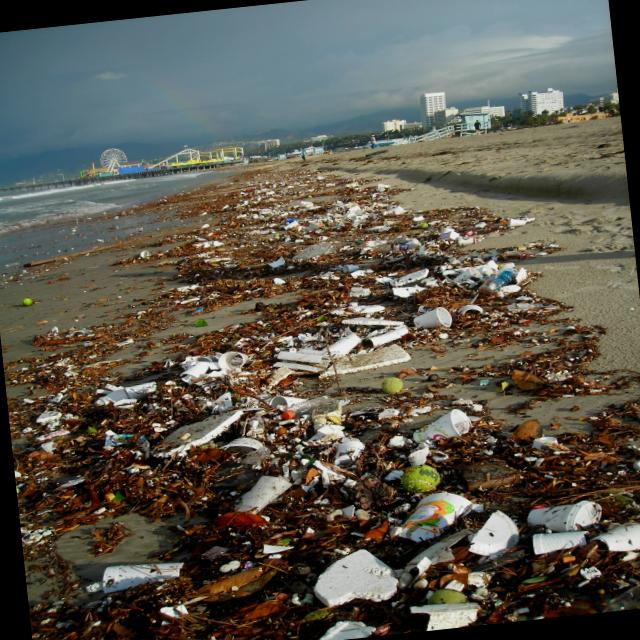garbage: (70, 151, 564, 640)
